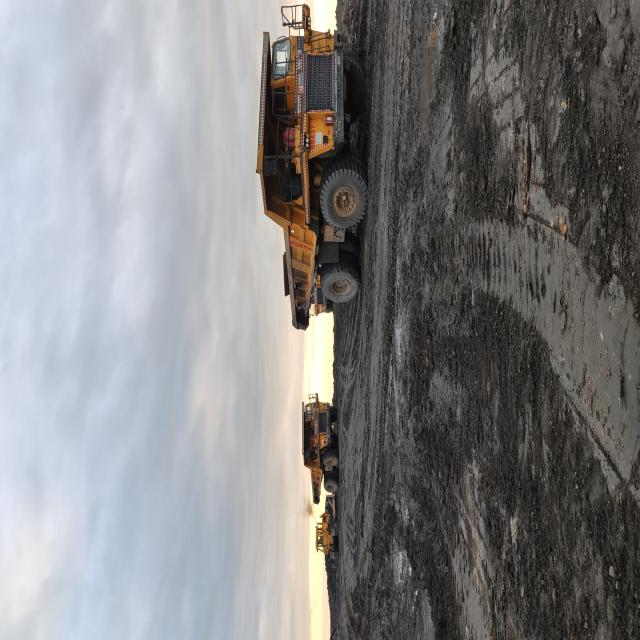buldozerpayloadergrader: (45, 560, 81, 600)
dump_truck: (175, 456, 359, 640), (76, 536, 139, 602)
